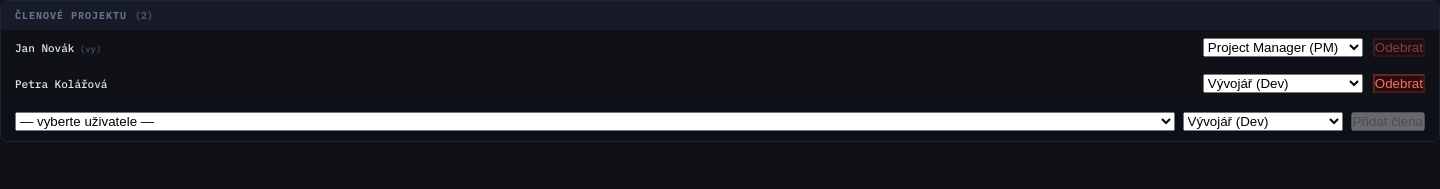
Test: ProjectMembersSection — PM › sám sebe odebrat nelze a serverovou hlášku o posledním PM zobrazí
This screenshot has width=1440, height=189.
Expected: the text "Jan Novák" is shown, [15,40,74,54]
Expected: the button with aria-label "Odebrat — Jan Novák" is disabled, [1373,38,1425,57]
Select "Vývojář (Dev)" in the dropdown named "Změnit roli — Jan Novák" at (1283, 48), box [1203,38,1363,57]
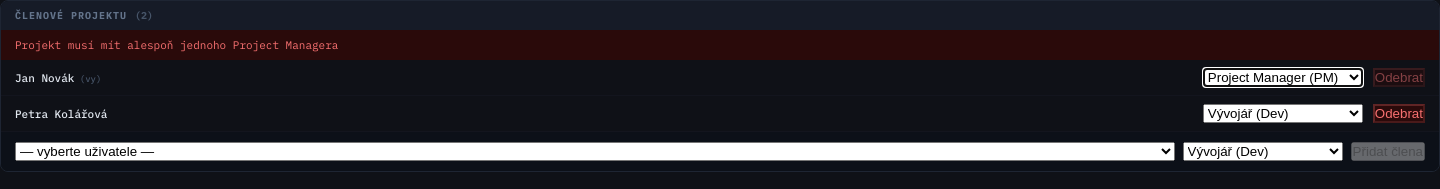
Now the message reads "Projekt musí mít alespoň jednoho Project Managera", box [15,38,338,52]
